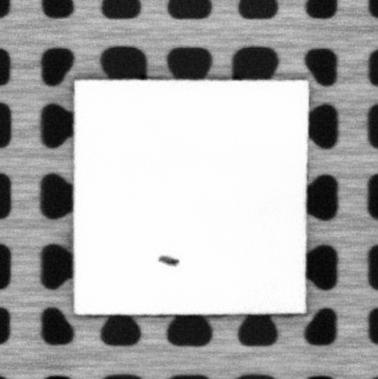DIE_INK: (155, 253, 182, 268)
